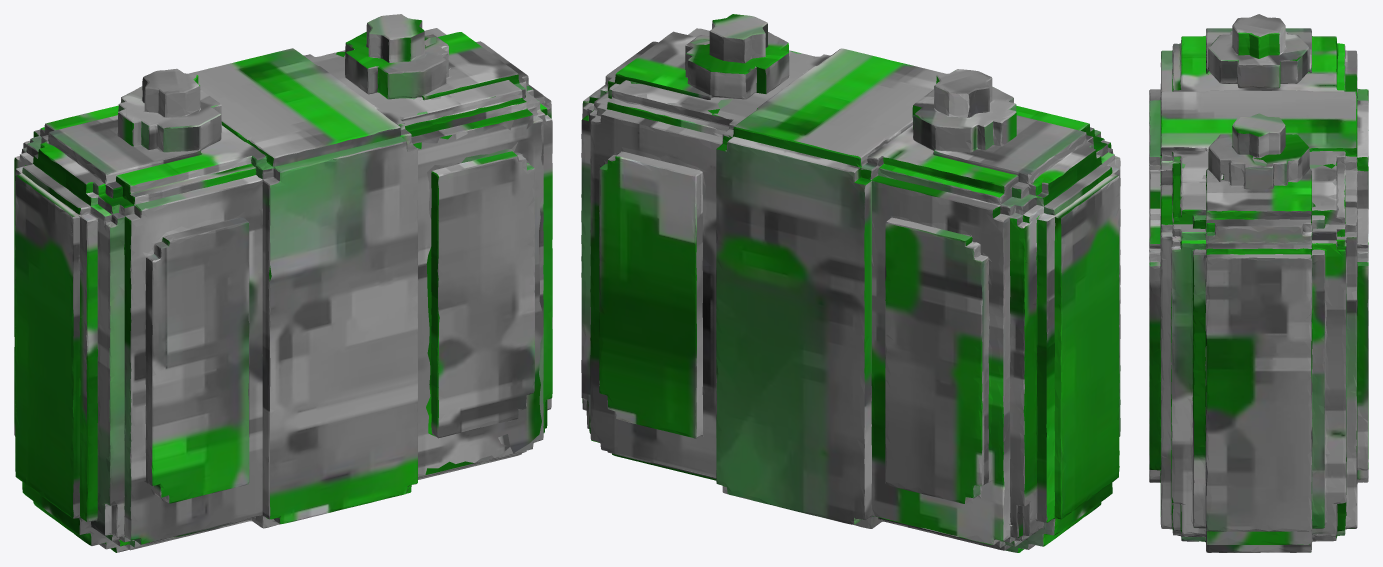
Rendered from MEDIA0.obj.
3 views of the same model, side by side, from view 1: azimuth 30°, elevation 25°; view 2: azimuth 150°, elevation 25°; view 3: azimuth 270°, elevation 25° (orthographic). The views are drawn at different scales.
Parts seen in each view (by area): view 1: geometry_0; view 2: geometry_0; view 3: geometry_0.
Boxes of the visible parts, box(x1,y1,x2,y2) form: geometry_0: box(14, 14, 552, 552); geometry_0: box(581, 14, 1120, 552); geometry_0: box(1149, 14, 1368, 552).
Bounding box in the file's own units: 1 × 0.8628 × 0.4388.
1 material, 1 textured.
